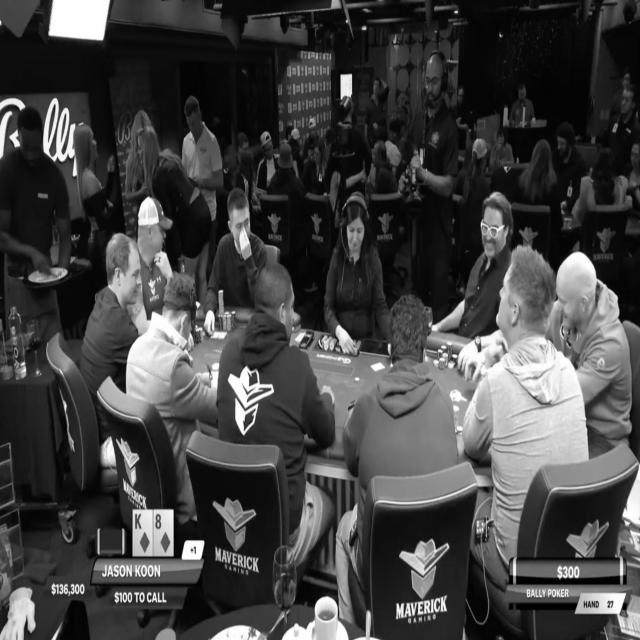8D: (154, 509, 173, 556)
KD: (133, 508, 154, 557)
